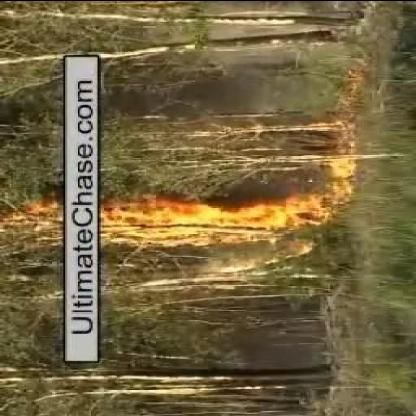foggia-v2-map80-epoch100 - v1 4323: (101, 203, 295, 237), (332, 160, 353, 192)
